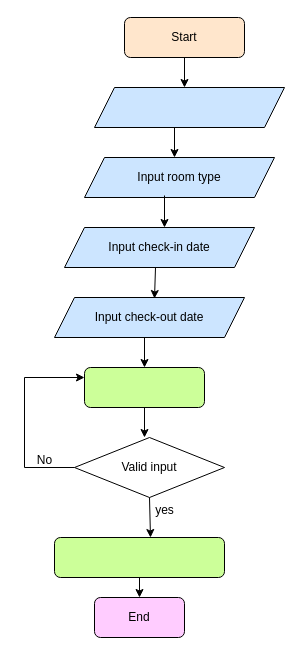
The diagram is 302 pixels wide and 655 high, and some of its shapes have lost their labels. Here are the shapes that lost their labels. From the top down, the centre of each, then its label:
(x=189, y=107): Input guess name
(x=144, y=387): Book now
(x=139, y=557): Display confirmation
